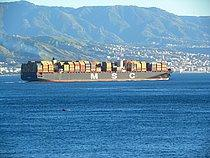Ship: (19, 56, 177, 85)
